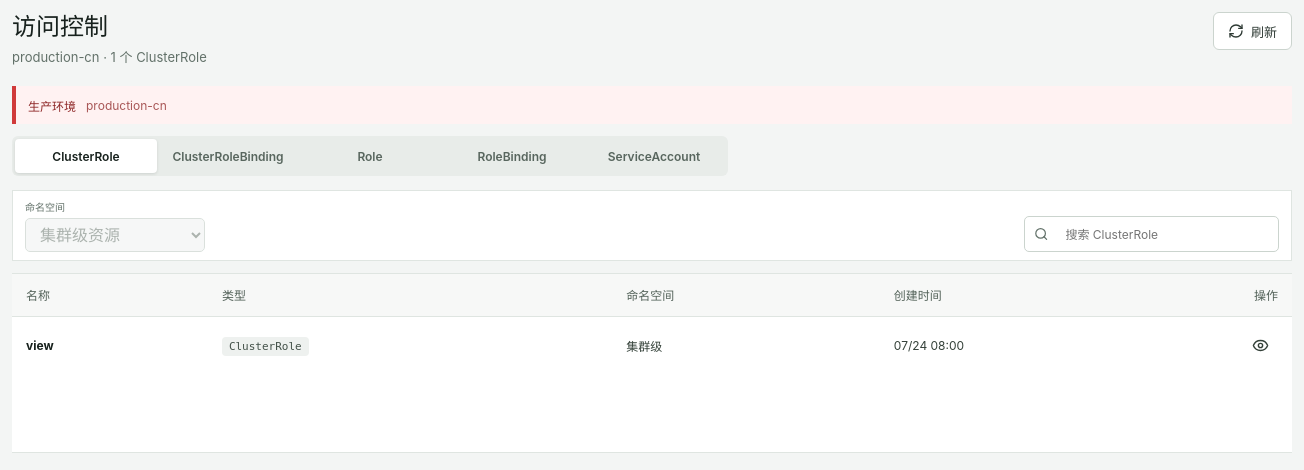
Scenario: AccessPage › loads one access kind at a time and requires namespace scope for namespaced kinds
Check: the text "view" is shown, box [26,338,54,353]
Click the button "Role".
click(370, 156)  # box [299,139,441,173]
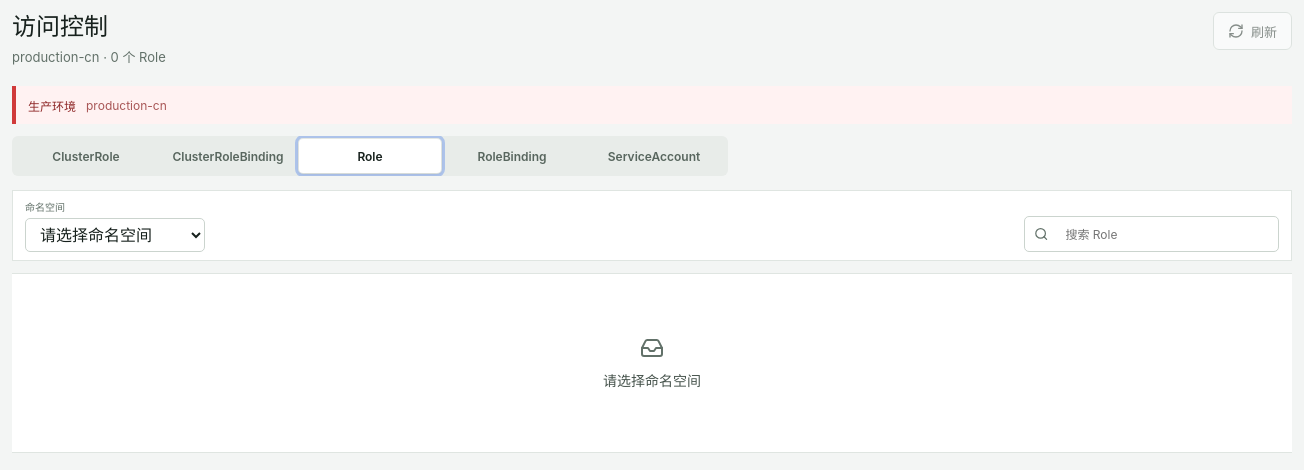
Check: the text "请选择命名空间" is shown, box [603,370,701,390]
Select "payments" in the dropdown labelled "命名空间" at x=115, y=235, box [25,218,205,252]
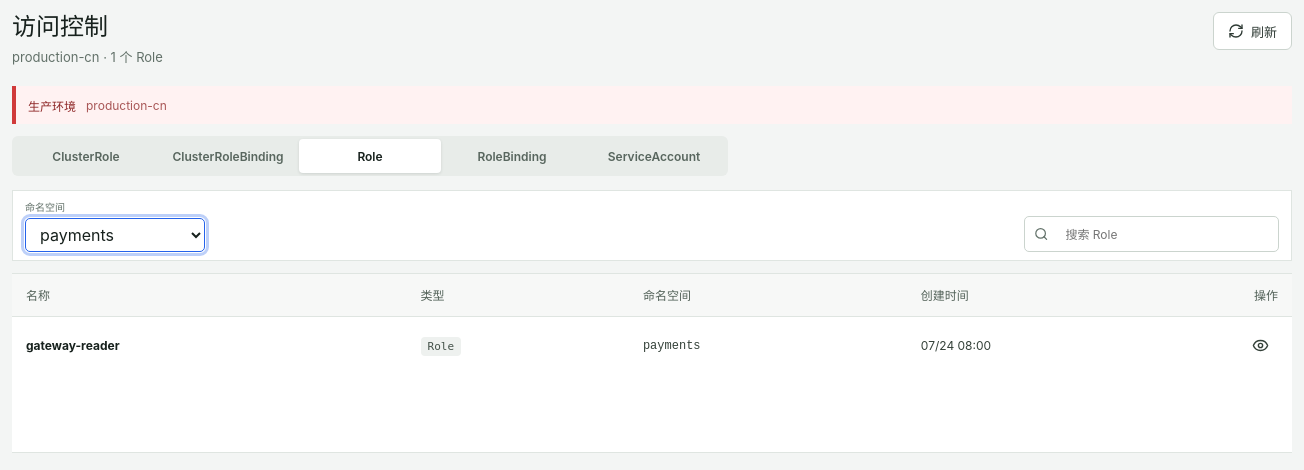
Check: the text "gateway-reader" is shown, box [26,338,120,353]
Click the button "ClusterRoleBinding".
click(228, 156)  # box [157,139,299,173]
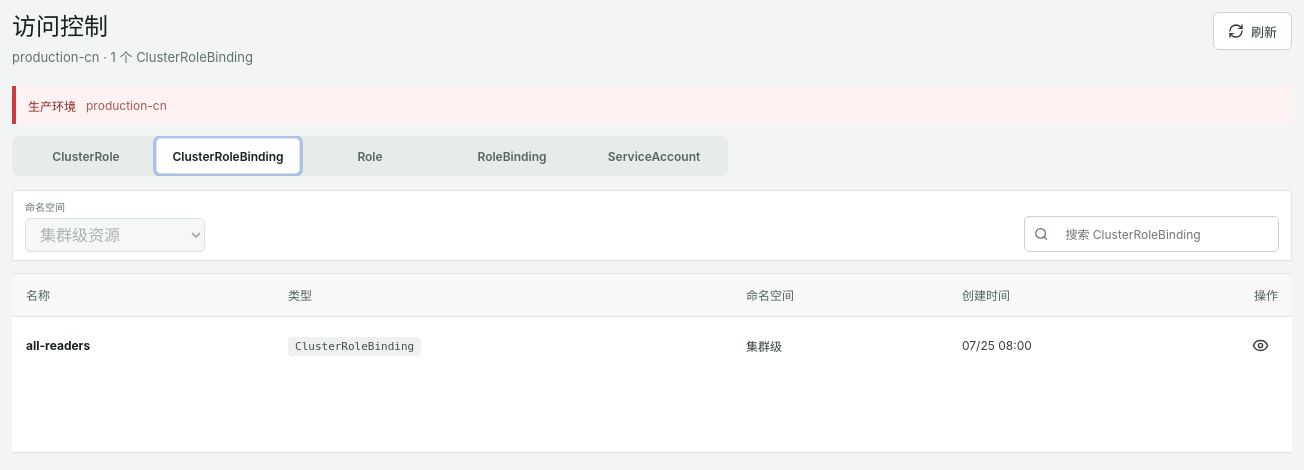
Check: the text "all-readers" is shown, box [26,338,90,353]
Check: the dropdown labelled "命名空间" is disabled, box [25,218,205,252]
